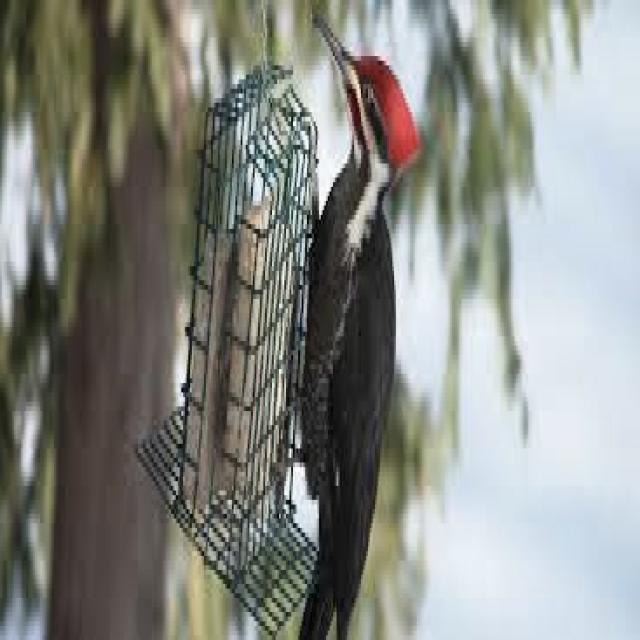woodpecker: (302, 19, 420, 635)
